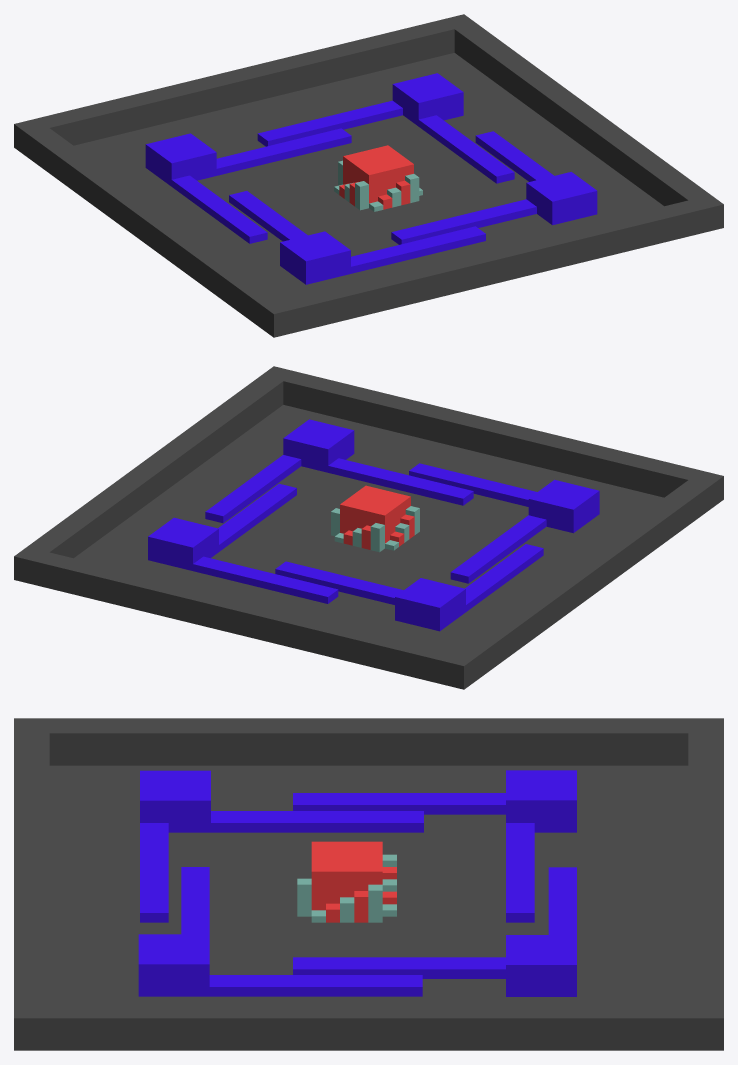
File: arene_test.FBX
The picture shows the model from 3 angles, top to bottom: view 1: azimuth 30°, elevation 25°; view 2: azimuth 150°, elevation 25°; view 3: azimuth 270°, elevation 25°; orthographic projection. The views are drawn at different scales.
Visible parts, largest first — view 1: Plane001, Box003, Box002, Box006, Box004, Box008, Box007, Box009, Box010, Box015, Box014, Box038 (+6 smaller); view 2: Plane001, Box002, Box003, Box006, Box004, Box009, Box010, Box008, Box007, Box013, Box036, Box015 (+6 smaller); view 3: Plane001, Box004, Box006, Box002, Box003, Box037, Box012, Box007, Box010, Box008, Box009, Box011 (+8 smaller).
Boxes of the visible parts, box(x1,y1,x2,y2) form: Plane001: box(74, 53, 663, 298); Box003: box(261, 195, 723, 337); Box002: box(14, 14, 476, 156); Box006: box(27, 128, 282, 327); Box004: box(454, 24, 710, 206); Box008: box(280, 231, 350, 284); Box007: box(526, 172, 597, 225); Box009: box(145, 133, 216, 186); Box010: box(392, 73, 463, 126); Box015: box(343, 145, 413, 203); Box014: box(216, 128, 351, 175); Box038: box(351, 226, 485, 273); Plane001: box(74, 405, 663, 650); Box002: box(14, 547, 476, 689); Box003: box(261, 366, 723, 508); Box006: box(455, 480, 710, 679); Box004: box(27, 376, 283, 558); Box009: box(395, 578, 465, 631); Box010: box(148, 517, 218, 570); Box008: box(528, 479, 599, 533); Box007: box(283, 419, 354, 472); Box013: box(328, 458, 473, 505); Box036: box(193, 556, 338, 603); Box015: box(340, 485, 410, 543); Plane001: box(49, 765, 688, 1003); Box004: box(49, 1003, 688, 1050); Box006: box(49, 718, 688, 765); Box002: box(688, 718, 723, 1050); Box003: box(14, 718, 49, 1050); Box037: box(209, 975, 422, 996); Box012: box(211, 811, 423, 832); Box007: box(138, 934, 209, 996); Box010: box(506, 935, 576, 996); Box008: box(140, 770, 210, 832); Box009: box(506, 770, 576, 832); Box011: box(293, 957, 505, 978).
Size of the model in its own units: 10000 by 700 by 10000.
